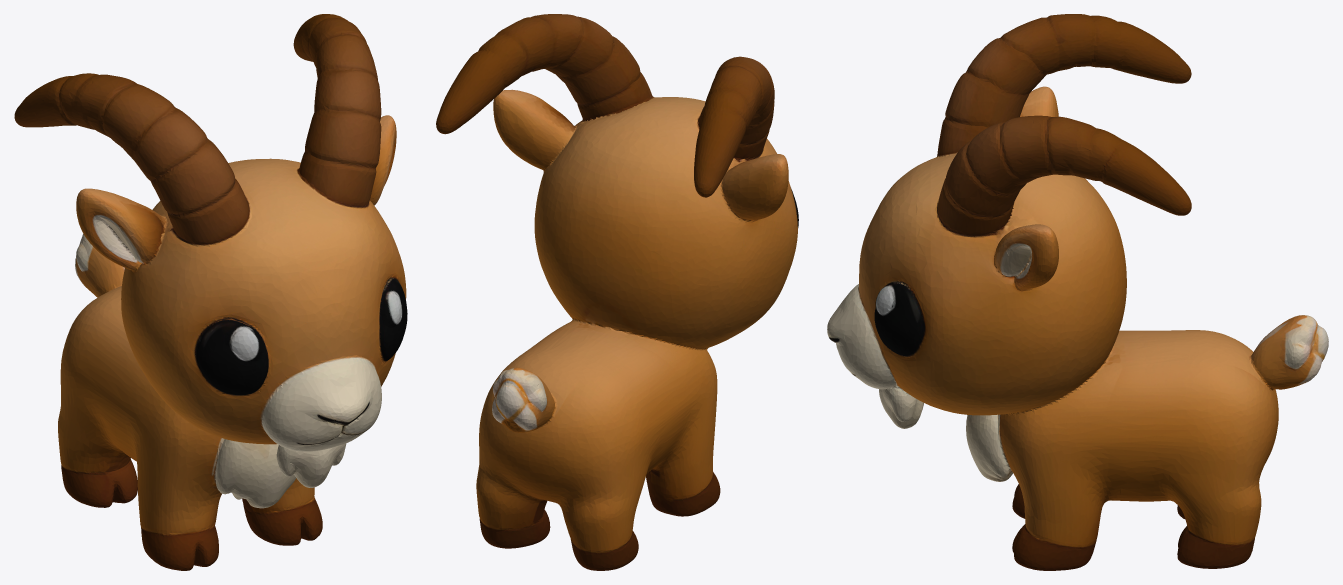
File: toy-ibex-hunyuan-raw.glb
3 views of the same model, side by side, from view 1: azimuth 30°, elevation 25°; view 2: azimuth 150°, elevation 25°; view 3: azimuth 270°, elevation 25° (orthographic). The views are drawn at different scales.
Visible parts, largest first — view 1: demo_textured.obj; view 2: demo_textured.obj; view 3: demo_textured.obj.
Boxes of the visible parts, x1,y1,x2,y2 form: demo_textured.obj: (14, 14, 407, 570); demo_textured.obj: (436, 14, 798, 570); demo_textured.obj: (827, 14, 1328, 570).
Bounding box in the file's own units: 1.35 × 1.99 × 1.93.
Materials: 1 (1 with a texture image).
